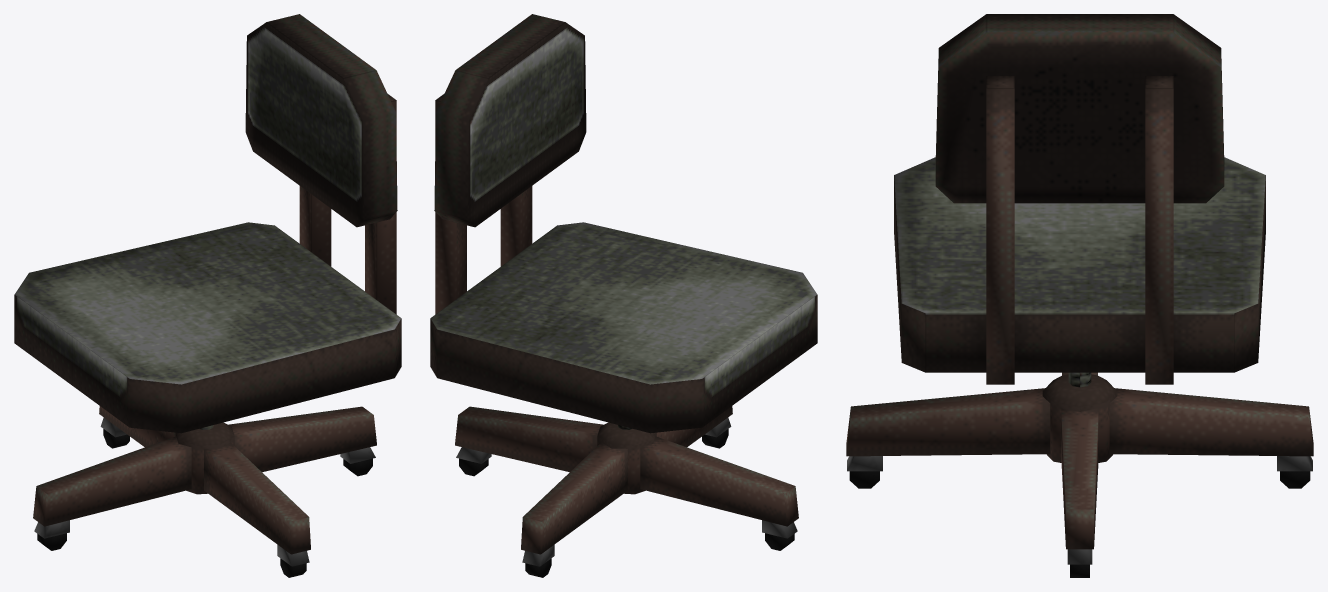
The model's file is เกาอี้.fbx.
3 renders of one model, left to right at view 1: azimuth 30°, elevation 25°; view 2: azimuth 150°, elevation 25°; view 3: azimuth 270°, elevation 25°, orthographic. The views are drawn at different scales.
Visible parts, largest first — view 1: chair01; view 2: chair01; view 3: chair01.
Boxes of the visible parts, box(x1,y1,x2,y2) form: chair01: box(14, 14, 401, 577); chair01: box(430, 14, 817, 577); chair01: box(846, 14, 1313, 577).
Bounding box in the file's own units: 100 × 125 × 100.
